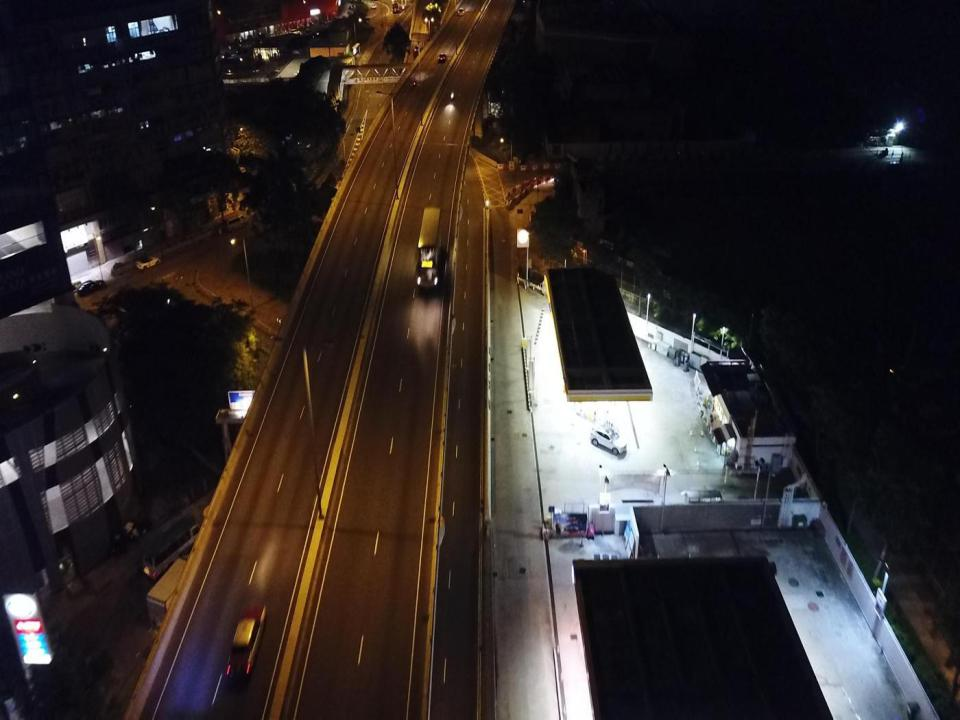bus: (143, 514, 200, 578), (418, 206, 442, 288), (391, 0, 398, 14)
car: (226, 606, 267, 676), (590, 426, 626, 454), (136, 255, 161, 270), (78, 281, 104, 295), (438, 53, 446, 63), (458, 8, 464, 16), (414, 45, 420, 51), (371, 4, 376, 8)
truck: (146, 554, 203, 628)
van: (223, 213, 248, 233)
